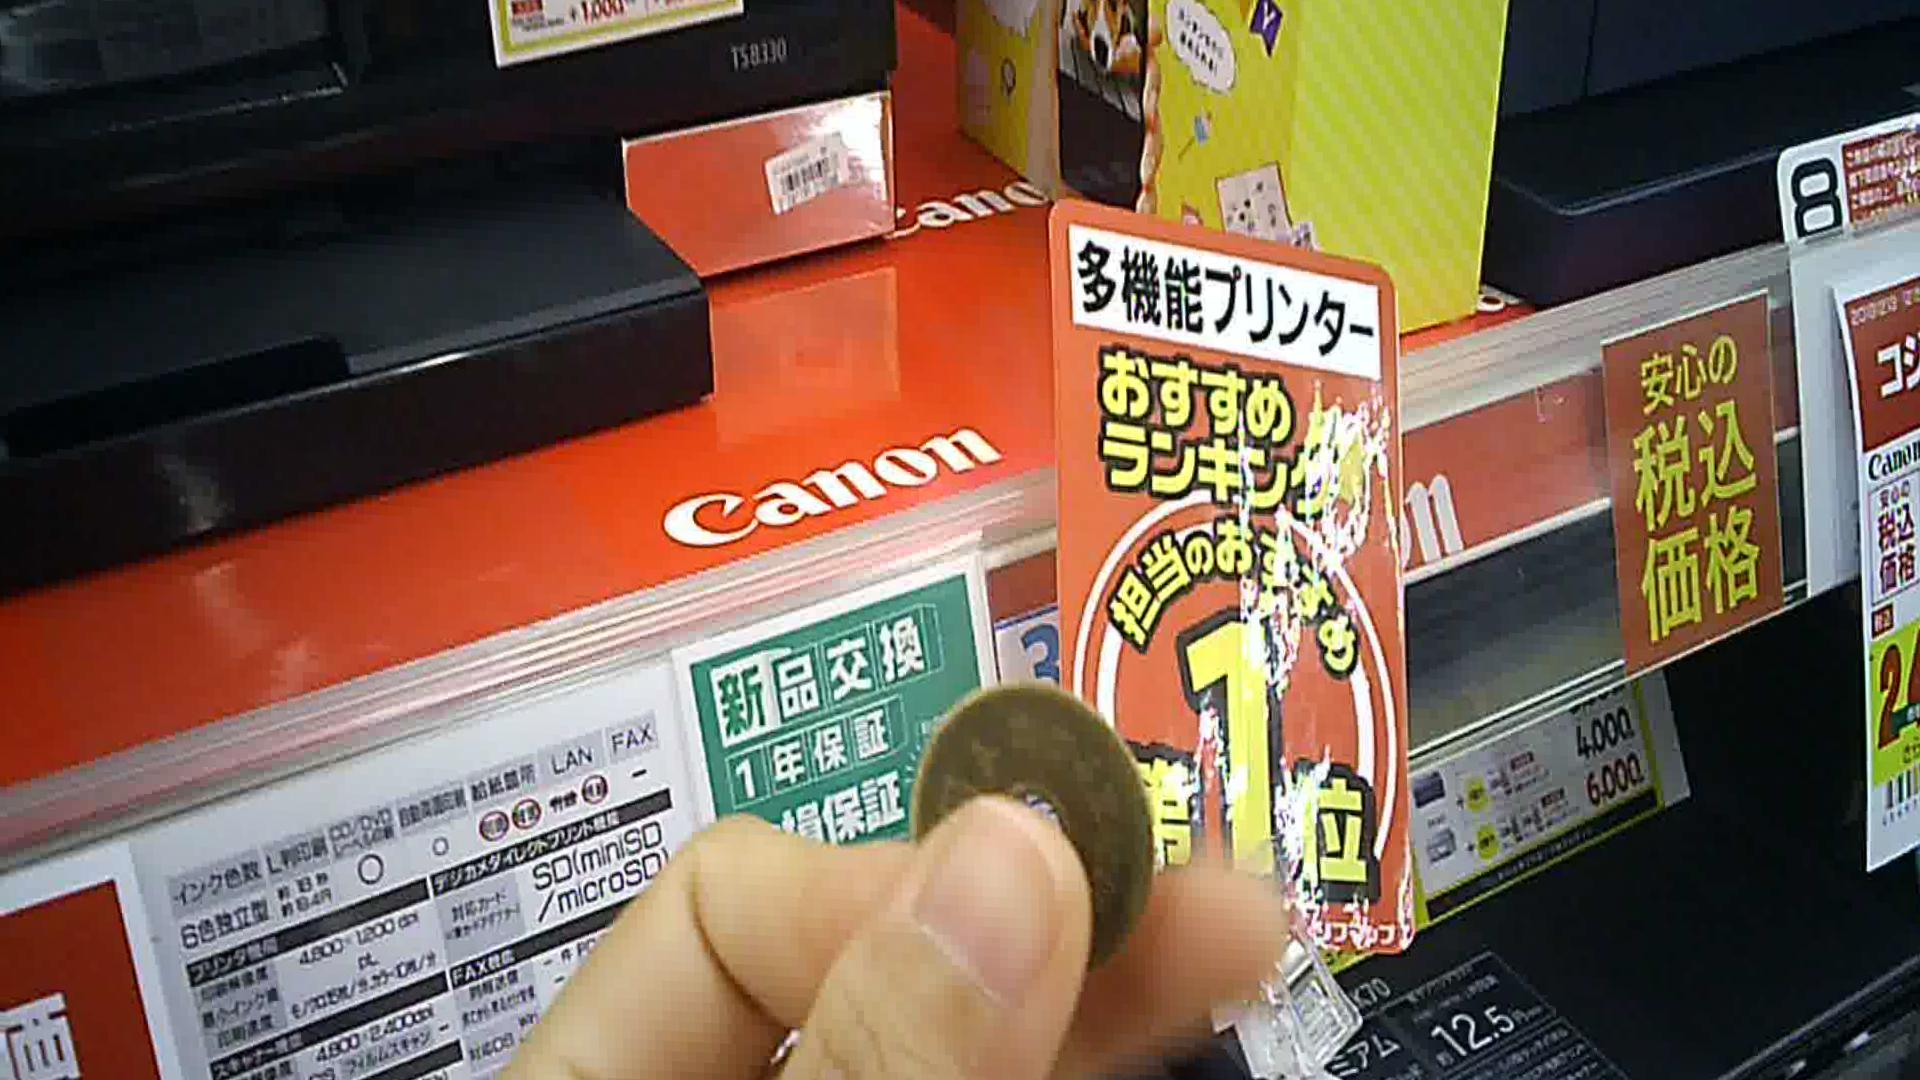5 Yen: (899, 688, 1168, 975)
